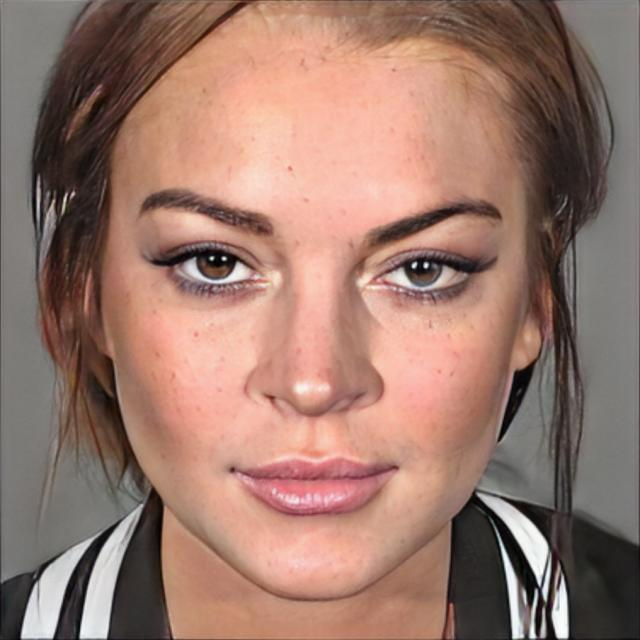content: (100, 14, 532, 600)
